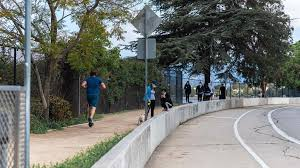mask: (152, 78, 158, 89)
